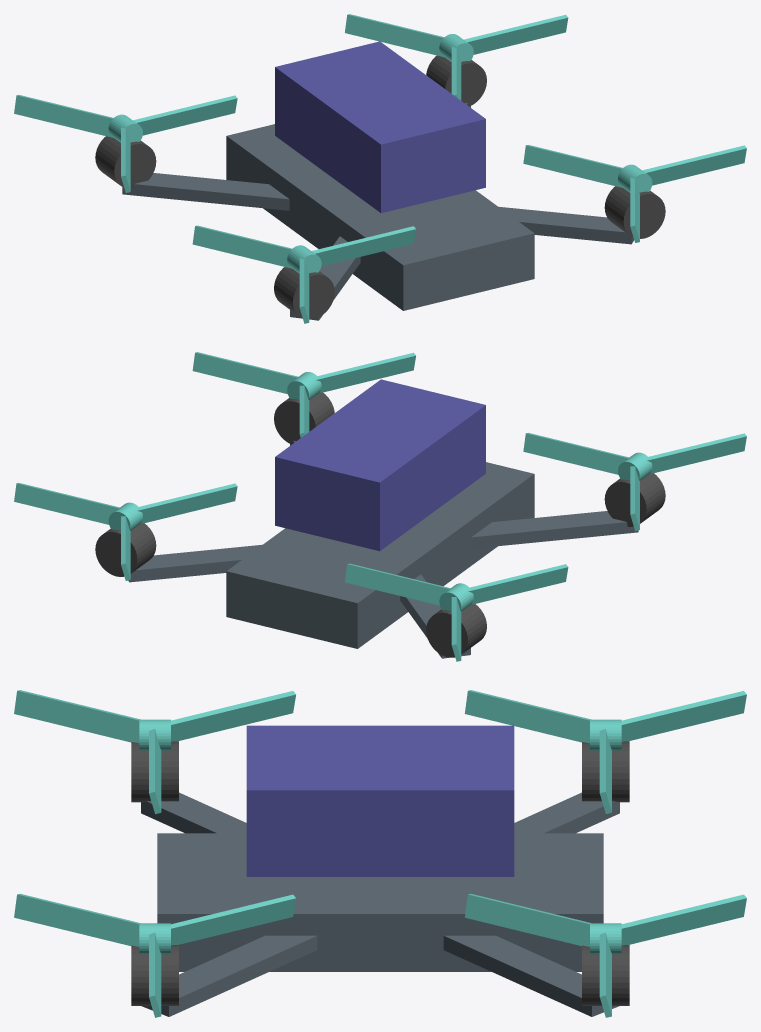
File: Kauri X.glb
The picture shows the model from 3 angles, top to bottom: view 1: azimuth 30°, elevation 25°; view 2: azimuth 150°, elevation 25°; view 3: azimuth 270°, elevation 25°; orthographic projection. The views are drawn at different scales.
Parts seen in each view (by area): view 1: battery, frame_body, prop_2, prop_3, prop_0, prop_1, arm_3, arm_0, motor_0, motor_2, motor_3, motor_1 (+1 smaller); view 2: battery, frame_body, prop_3, prop_1, prop_2, prop_0, arm_2, arm_1, motor_1, motor_3, motor_2, motor_0 (+1 smaller); view 3: battery, frame_body, prop_2, prop_0, prop_3, prop_1, arm_1, arm_0, arm_2, arm_3, motor_2, motor_3 (+2 smaller).
Boxes of the visible parts, x1,y1,x2,y2 form: battery: (275,41,485,213); frame_body: (226,124,534,310); prop_2: (192,225,416,323); prop_3: (14,95,237,192); prop_0: (523,145,746,242); prop_1: (345,14,568,100); arm_3: (122,173,289,210); arm_0: (498,206,633,244); motor_0: (604,186,665,238); motor_2: (274,267,334,319); motor_3: (95,136,156,188); motor_1: (426,55,486,106); battery: (275,379,485,551); frame_body: (226,462,534,648); prop_3: (345,563,568,661); prop_1: (14,483,237,580); prop_2: (523,432,746,530); prop_0: (192,352,415,437); arm_2: (471,511,638,548); arm_1: (128,544,262,582); motor_1: (95,523,156,576); motor_3: (426,604,486,657); motor_2: (604,473,665,526); motor_0: (274,392,334,444); battery: (246,725,514,876); frame_body: (157,833,603,971); prop_2: (14,690,296,814); prop_0: (14,893,296,1017); prop_3: (464,690,746,813); prop_1: (464,894,746,1017); arm_1: (443,935,619,1016); arm_0: (141,935,317,1016); arm_2: (141,792,246,833); arm_3: (514,792,619,833); motor_2: (131,741,178,802); motor_3: (582,741,629,802).
Bounding box in the file's own units: 0.2279 × 0.06 × 0.2299.
